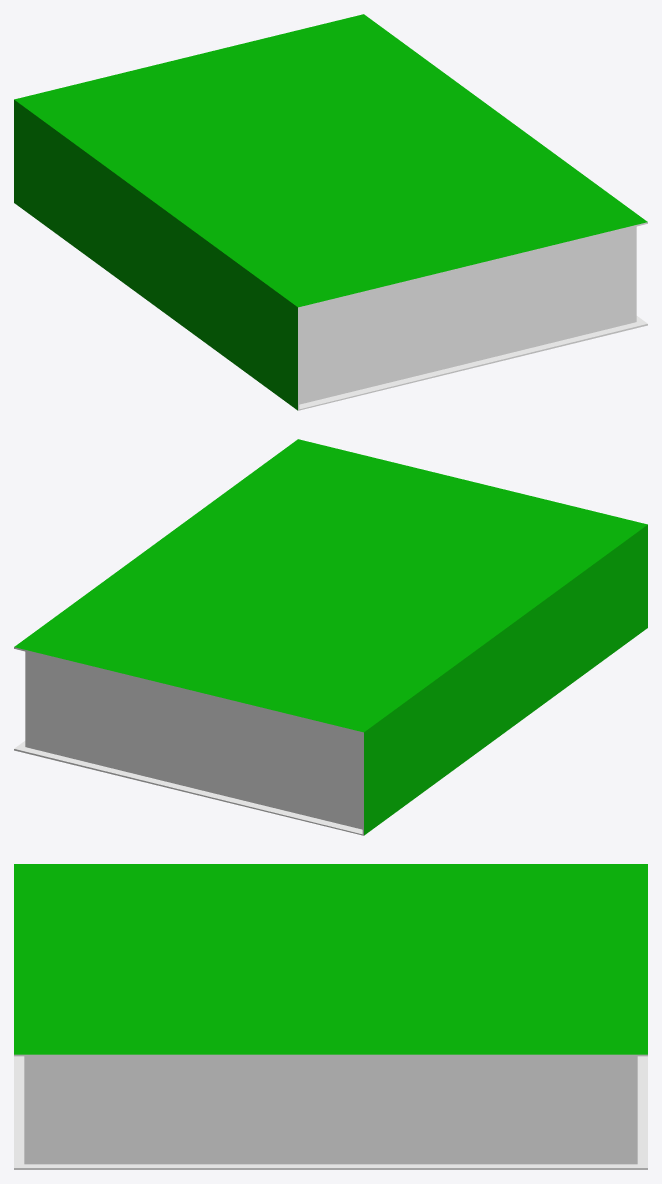
File: Book_02.fbx
3 views of the same model, one above another, from view 1: azimuth 30°, elevation 25°; view 2: azimuth 150°, elevation 25°; view 3: azimuth 270°, elevation 25° (orthographic). The views are drawn at different scales.
Parts seen in each view (by area): view 1: Book_02; view 2: Book_02; view 3: Book_02.
Boxes of the visible parts, x1,y1,x2,y2 form: Book_02: [14, 14, 647, 410]; Book_02: [14, 439, 647, 835]; Book_02: [14, 864, 647, 1169].
Bounding box in the file's own units: 21.61 × 6.1 × 30.4.
